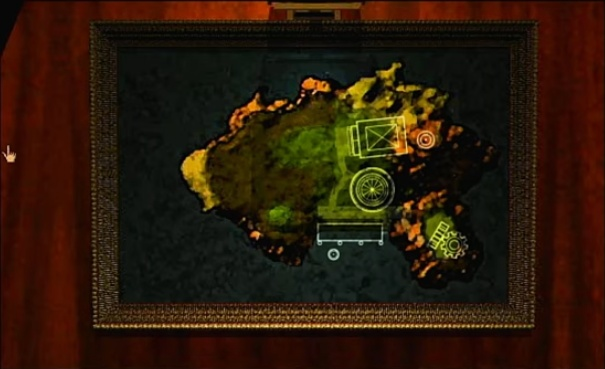Pointer: (0, 141, 19, 165)
